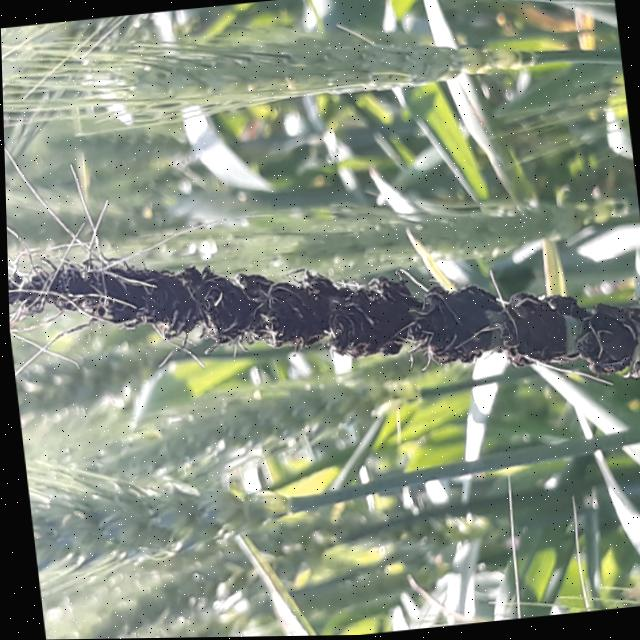loose_charred: (4, 170, 640, 448)
